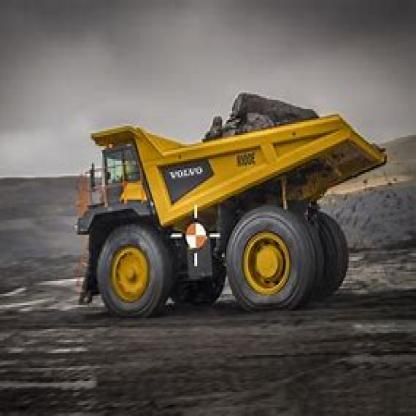dump_truck: (58, 87, 393, 327)
